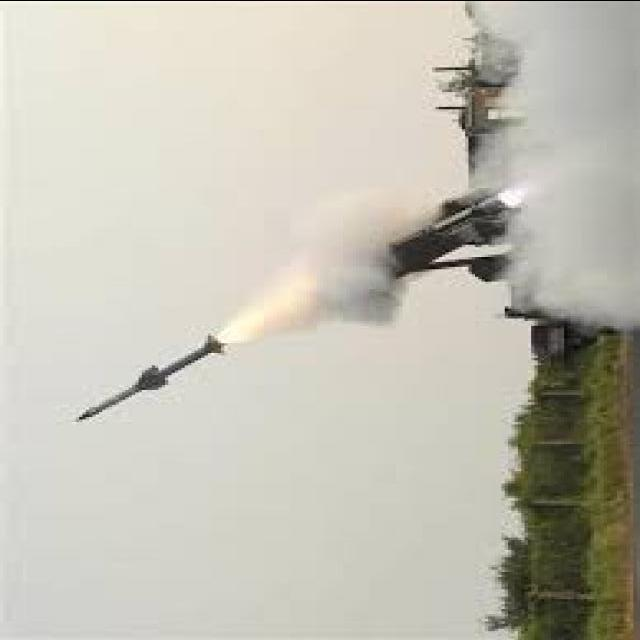Missile: (73, 328, 233, 427)
